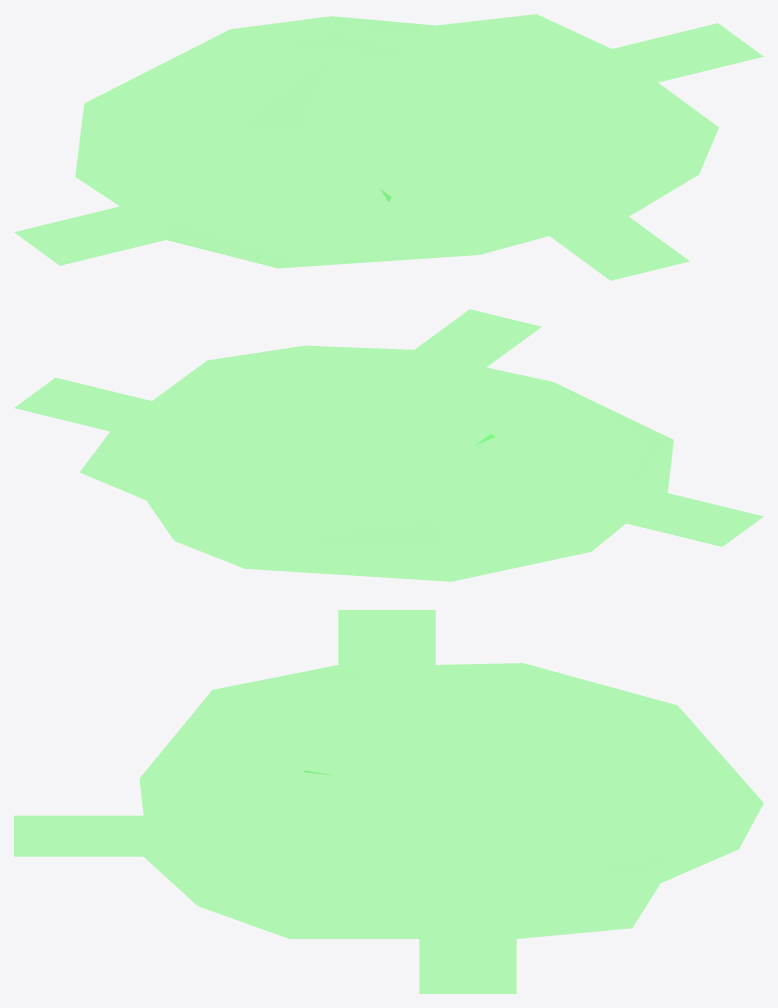
The model's file is s04a_td2-floor.glb.
3 views of the same model, one above another, from view 1: azimuth 30°, elevation 25°; view 2: azimuth 150°, elevation 25°; view 3: azimuth 270°, elevation 25° (orthographic). The views are drawn at different scales.
Visible parts, largest first — view 1: collision_floor-colonly; view 2: collision_floor-colonly; view 3: collision_floor-colonly.
Part boxes in pixels (x1=…): collision_floor-colonly: x1=14, y1=14, x2=763, y2=280; collision_floor-colonly: x1=15, y1=309, x2=763, y2=581; collision_floor-colonly: x1=14, y1=610, x2=763, y2=993.
Size of the model in its own units: 56 by 0.2852 by 46.25.
